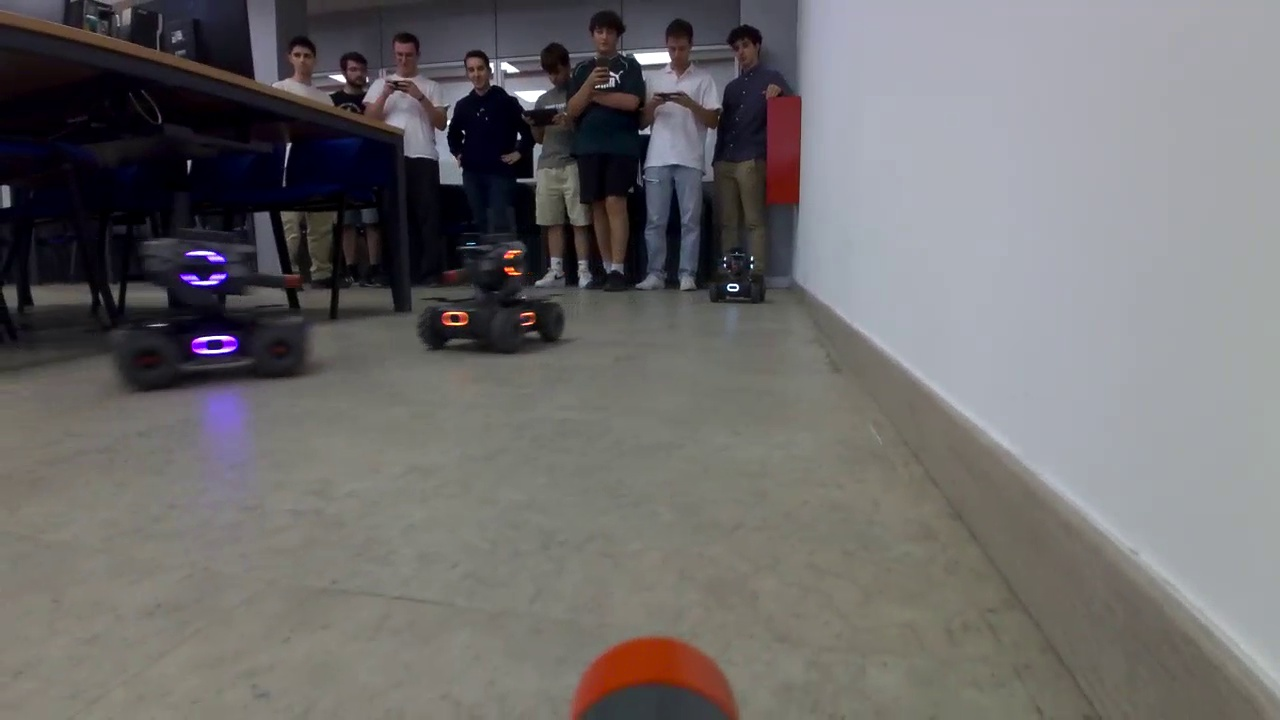robot: (133, 232, 305, 362), (420, 235, 573, 352), (710, 248, 766, 302)
